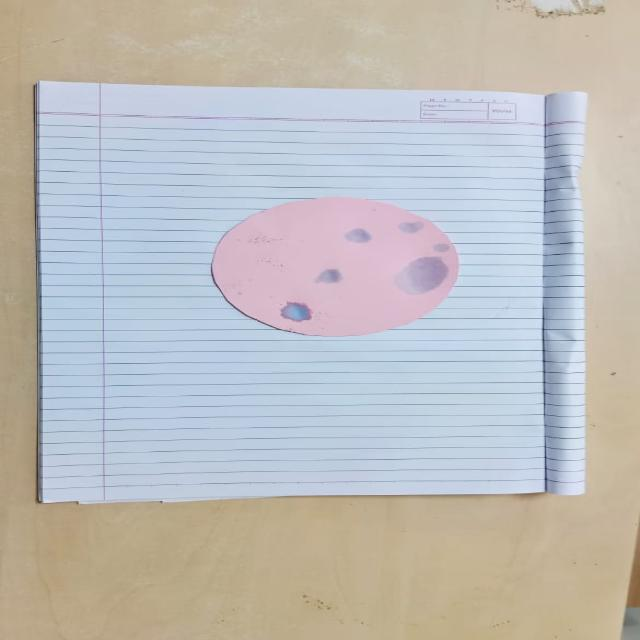BlueColor: (395, 257, 450, 295), (281, 302, 311, 322), (315, 269, 345, 284), (344, 228, 371, 243), (399, 222, 424, 234), (433, 243, 451, 253)
